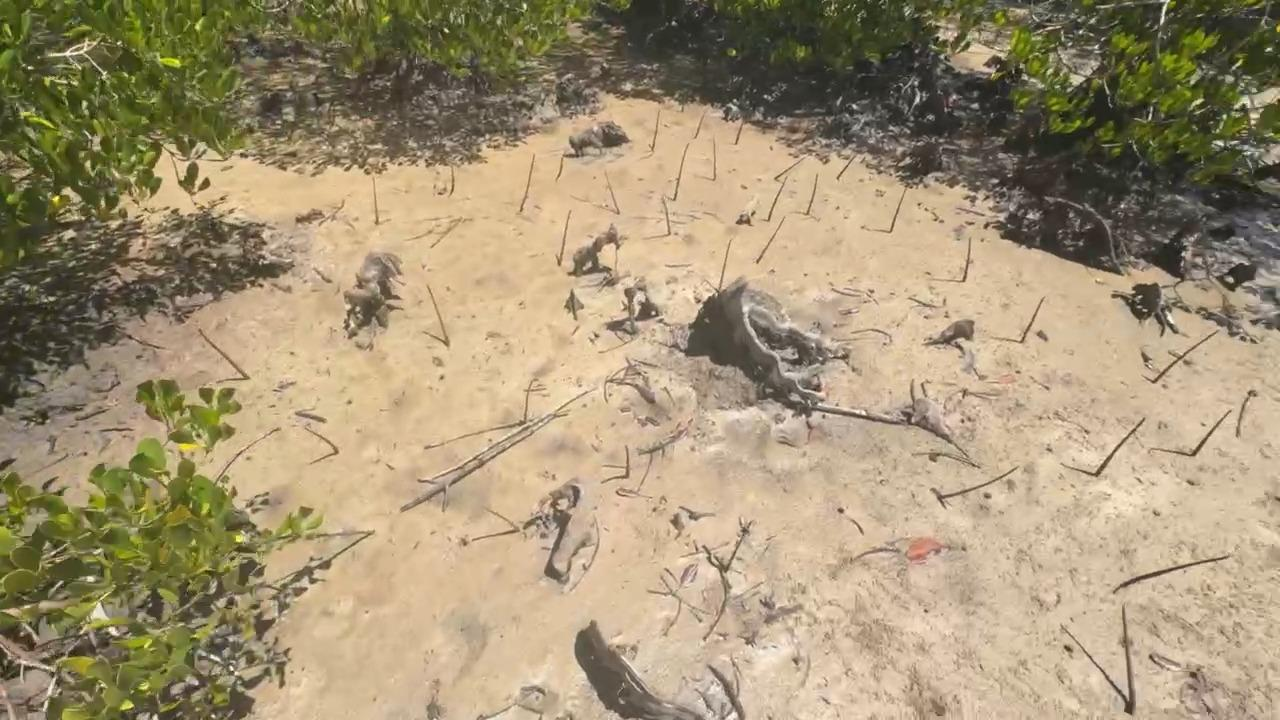Tree: (1153, 330, 1218, 383), (1095, 417, 1146, 477), (938, 466, 1019, 499), (198, 329, 249, 379), (1192, 410, 1233, 456), (1121, 606, 1137, 713), (426, 283, 450, 348), (724, 521, 751, 573), (756, 217, 785, 263), (1021, 295, 1045, 344), (672, 143, 690, 202), (485, 506, 519, 535), (305, 427, 339, 454), (889, 186, 908, 234), (768, 176, 787, 222), (520, 154, 535, 212), (557, 209, 572, 265), (717, 238, 732, 292), (604, 169, 620, 214), (836, 152, 860, 181), (775, 157, 805, 180), (806, 174, 817, 216), (651, 108, 662, 149), (961, 237, 971, 281), (694, 108, 707, 140), (661, 194, 671, 234), (524, 379, 533, 422), (734, 118, 746, 145), (373, 175, 379, 224), (555, 154, 565, 183), (449, 163, 455, 195), (712, 136, 716, 180), (625, 445, 630, 477)
